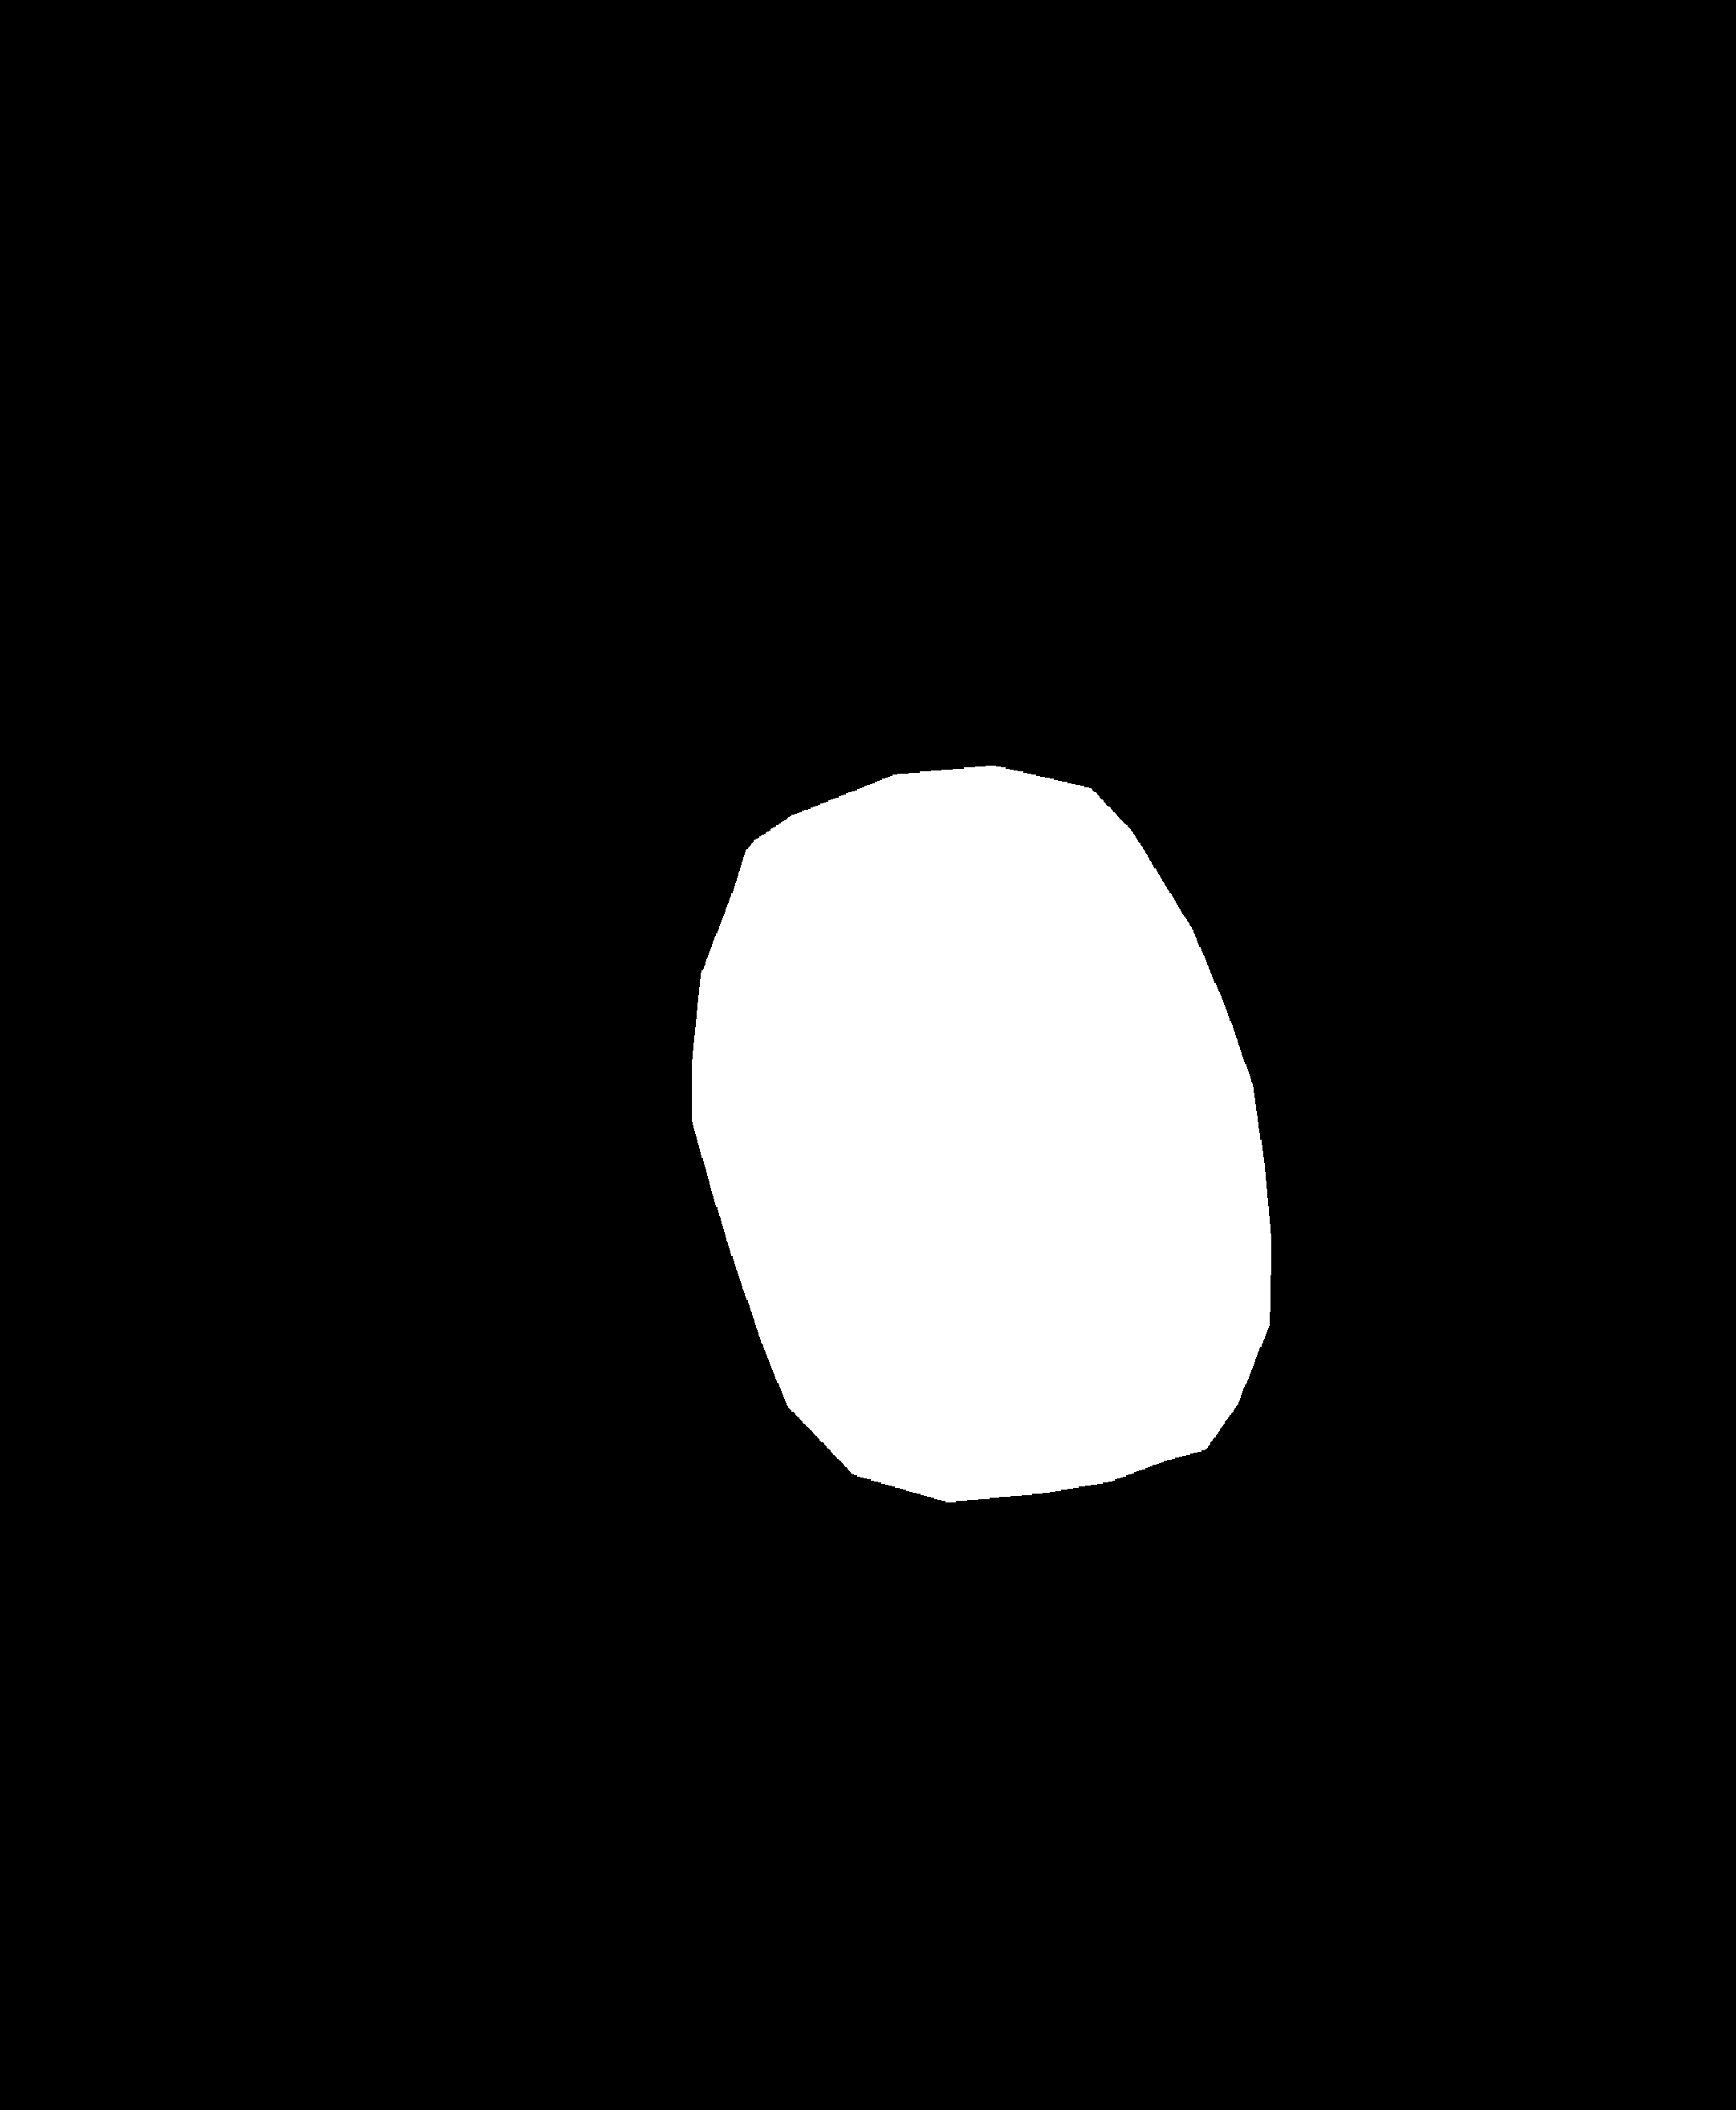heart: (688, 817, 1274, 1502)
left_lung: (186, 124, 755, 1693)
right_lung: (934, 131, 1563, 1691)
